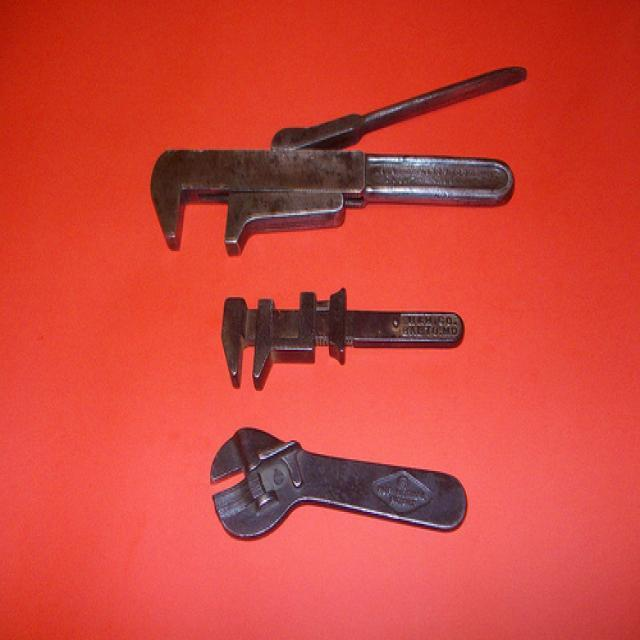wrench: (142, 56, 543, 250), (203, 416, 480, 558), (210, 280, 467, 400)
